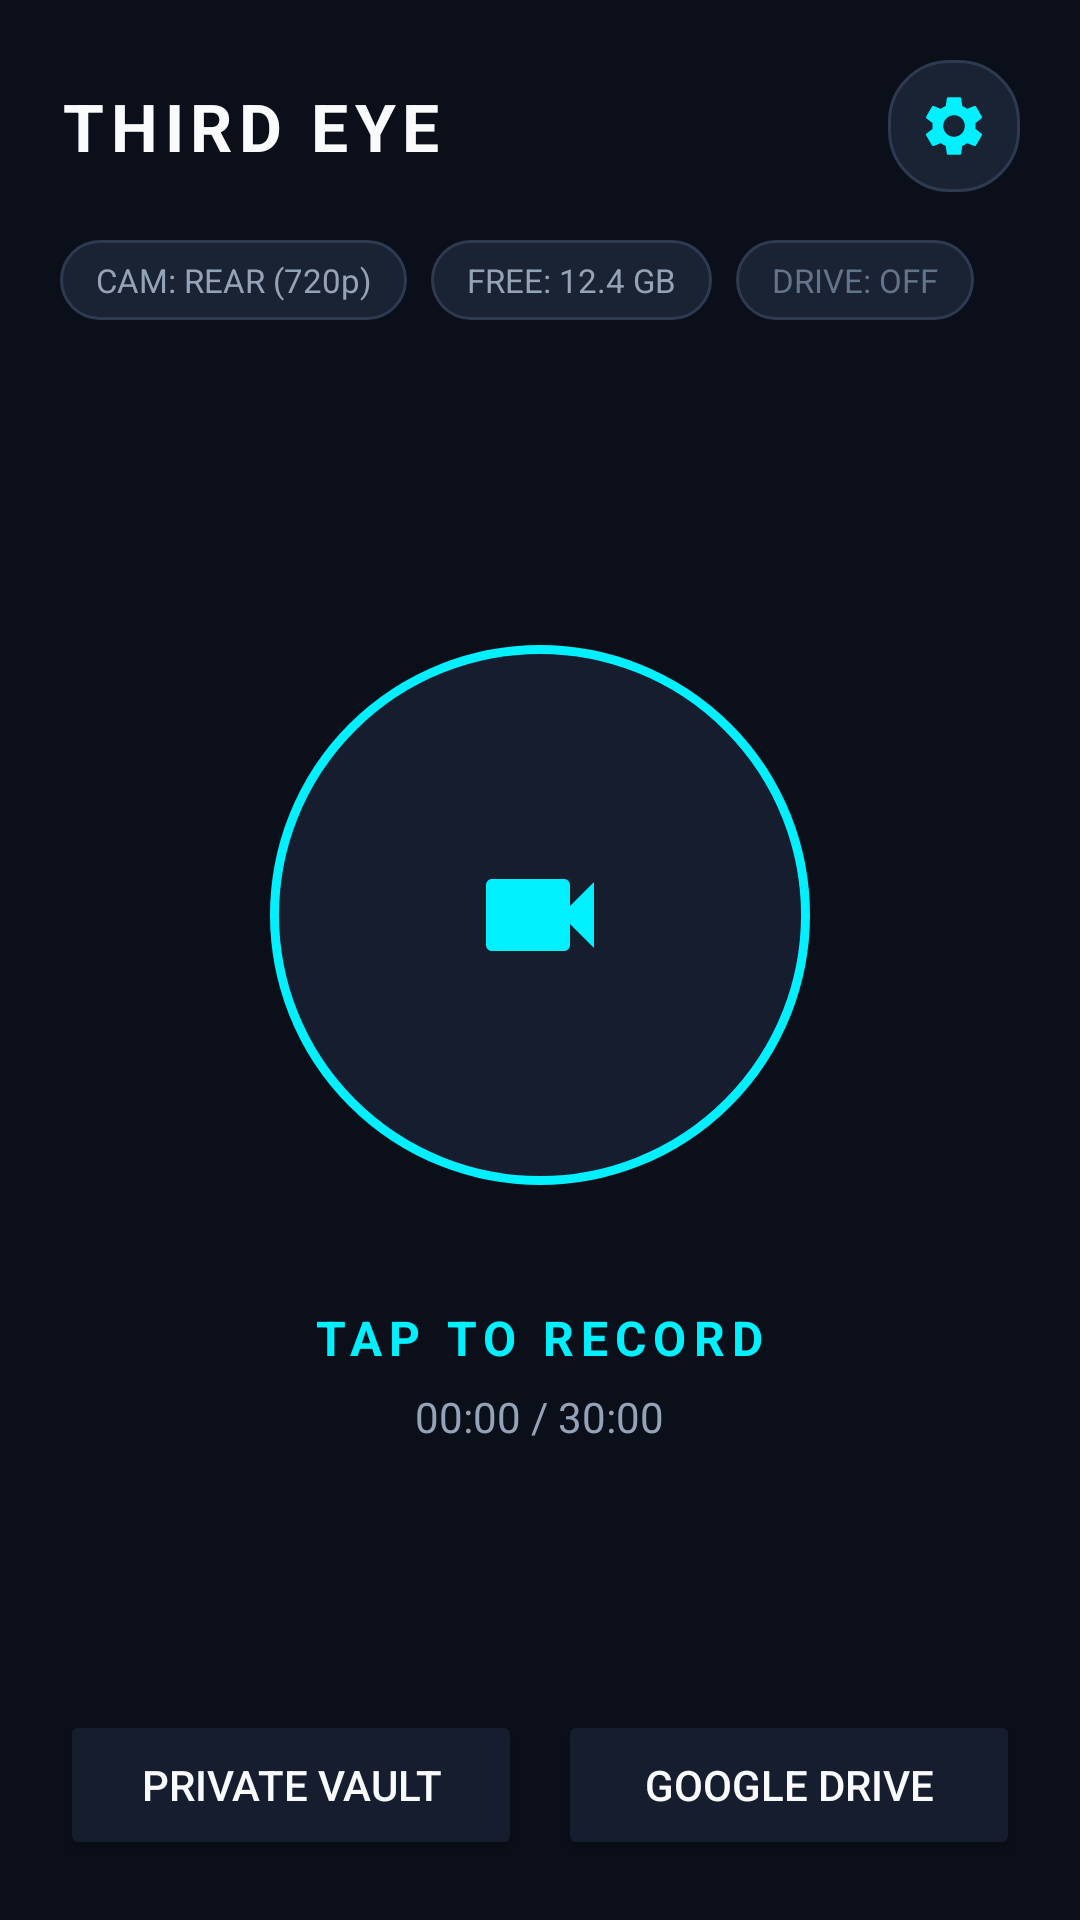

Named icons in this screenshot (1080w x 1920h) and their centers, point (x, y):
Settings: point (954, 126)
